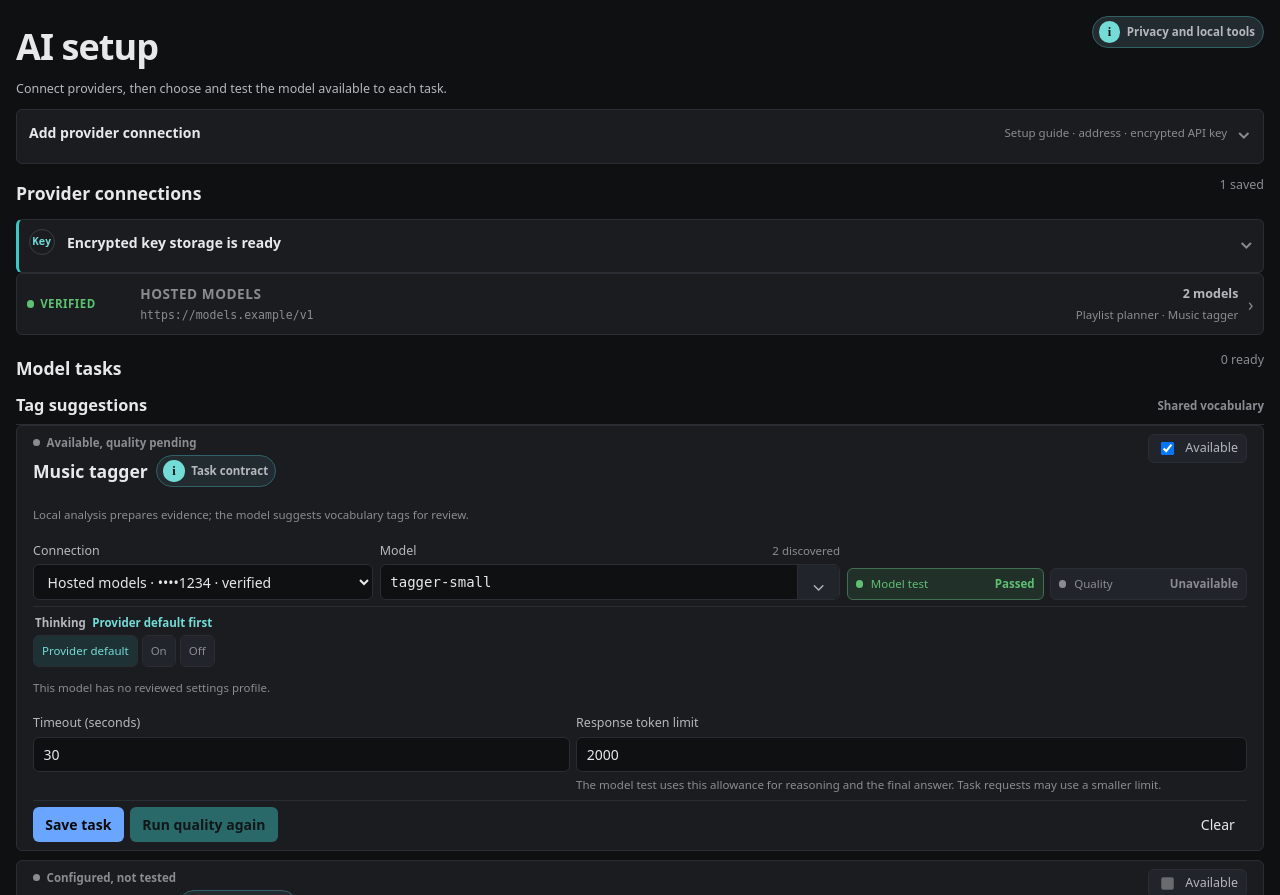
AssistantAiSetupView › explains per-task keys and shows which tasks reuse a connection
Expected: the heading "AI setup" is shown, [16,22,158,71]
Click the heading "Hosted models": point(68, 304) [17,274,1263,334]
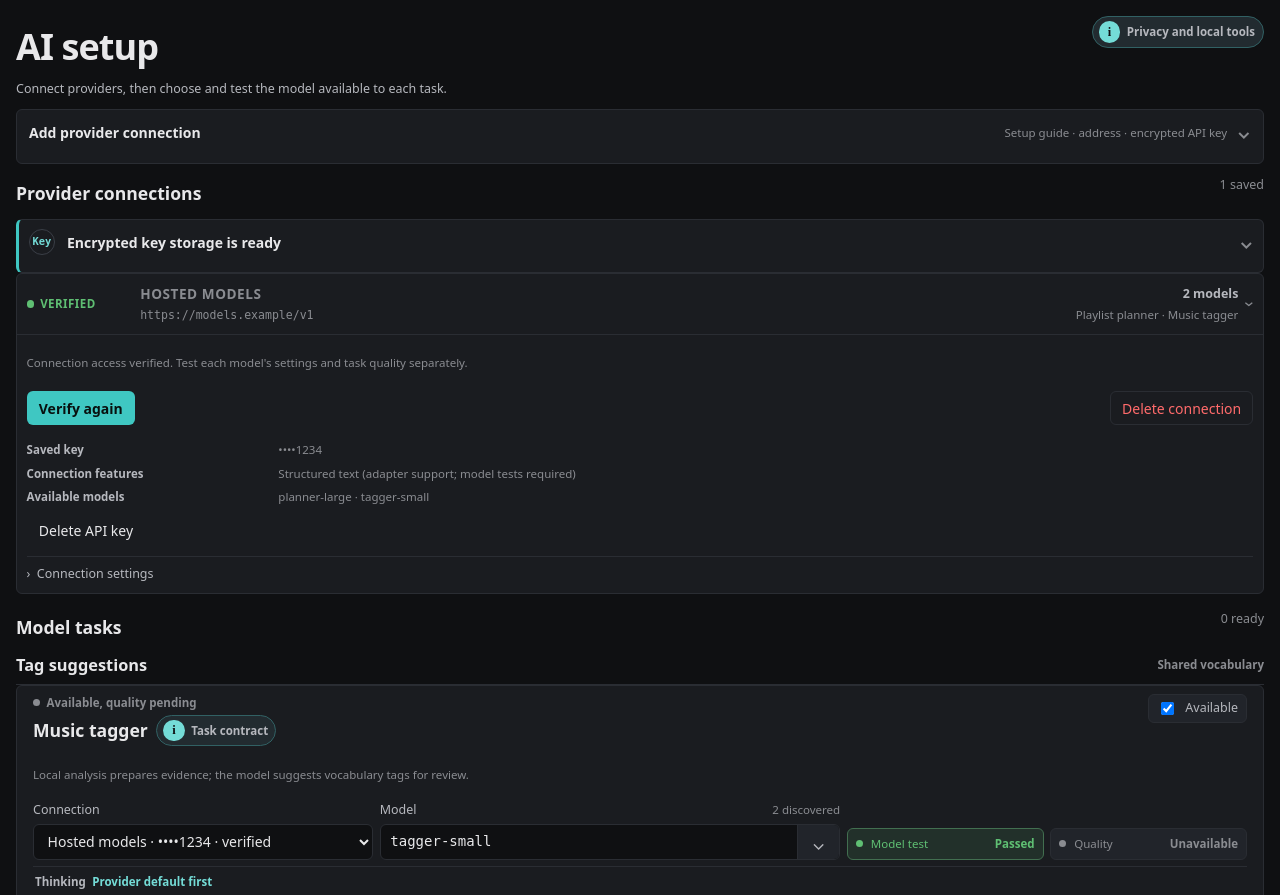
Expected: the text "Playlist planner · Music tagger" is shown, [1076,307,1238,322]
Now the text "Structured text (adapter support; model tests required)" is shown, box [278,466,576,481]
